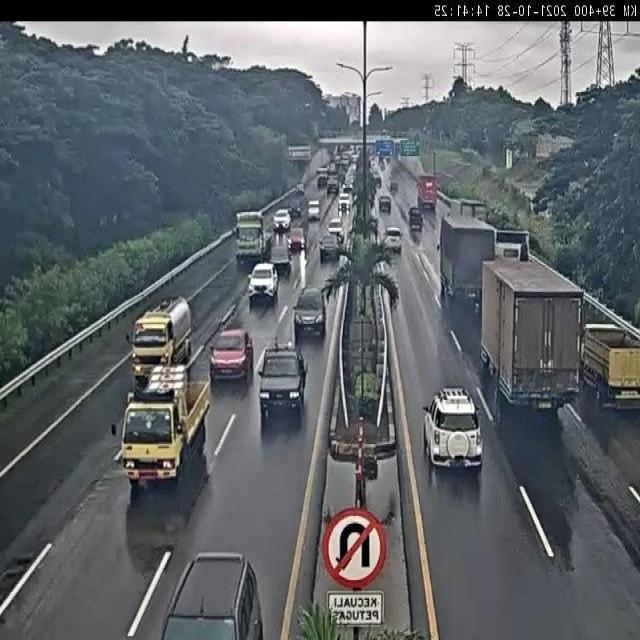Car: (156, 552, 264, 638), (420, 384, 484, 488), (257, 344, 308, 428), (209, 328, 254, 388), (292, 286, 326, 340), (248, 262, 280, 305), (268, 240, 291, 278), (318, 233, 340, 262), (382, 228, 402, 255), (272, 209, 292, 232), (288, 228, 306, 252), (409, 206, 423, 234), (328, 218, 344, 240), (338, 191, 352, 214), (308, 199, 320, 221), (288, 203, 302, 219), (327, 177, 339, 195), (379, 195, 391, 212), (341, 183, 353, 200), (390, 180, 399, 192), (374, 175, 382, 188)
Truck: (480, 257, 579, 410), (120, 375, 208, 488), (133, 296, 193, 378), (580, 326, 639, 409), (441, 215, 494, 302), (235, 210, 268, 270), (496, 228, 530, 260), (417, 175, 439, 208), (458, 200, 487, 219)
